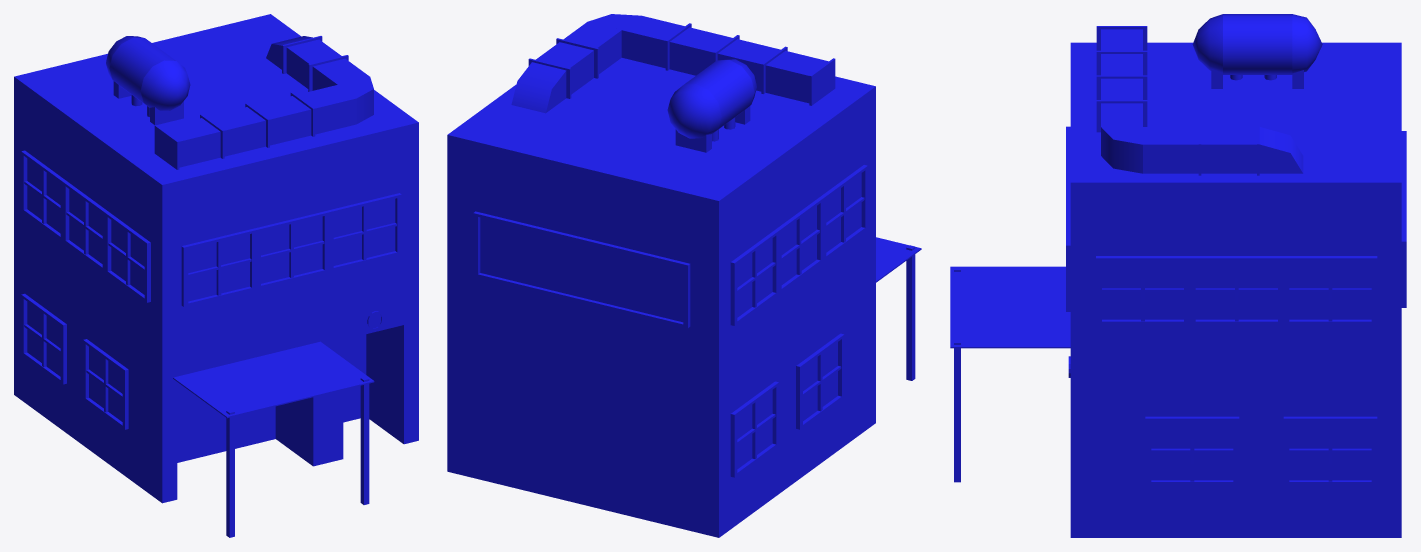
File: casa 1.FBX
3 renders of one model, left to right at view 1: azimuth 30°, elevation 25°; view 2: azimuth 150°, elevation 25°; view 3: azimuth 270°, elevation 25°, orthographic. The views are drawn at different scales.
Visible parts, largest first — view 1: Box009; view 2: Box009; view 3: Box009.
Boxes of the visible parts, box(x1,y1,x2,y2) form: Box009: box(14, 14, 418, 537); Box009: box(447, 14, 921, 537); Box009: box(950, 14, 1406, 537).
Bounding box in the file's own units: 145 × 196 × 193.
